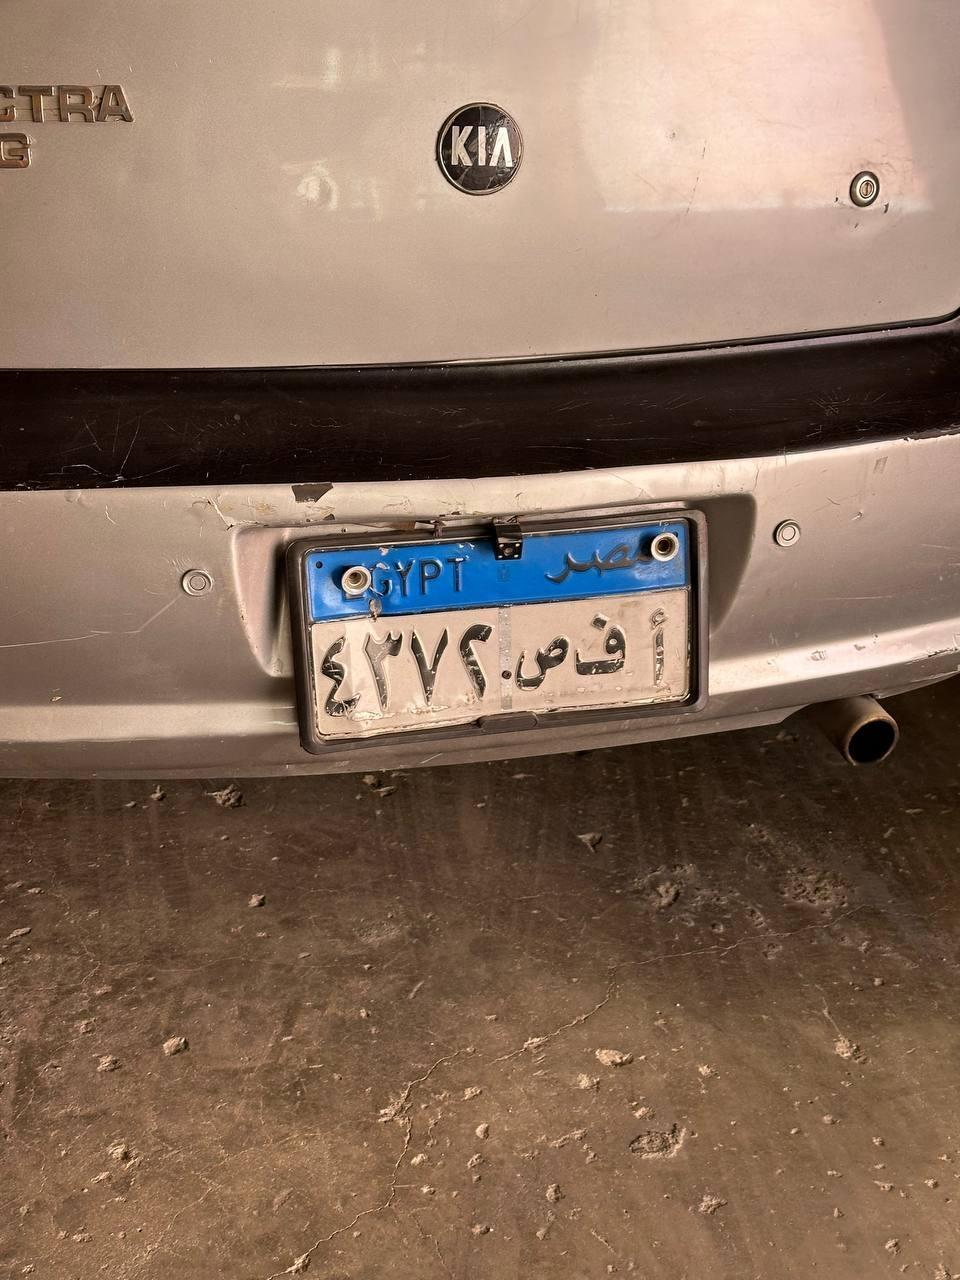2: (458, 617, 496, 704)
3: (364, 626, 404, 716)
4: (317, 626, 360, 719)
7: (404, 622, 454, 712)
F: (571, 612, 636, 678)
License Plate: (282, 511, 706, 756)
Saad: (514, 632, 573, 696)
alef: (644, 606, 674, 687)
